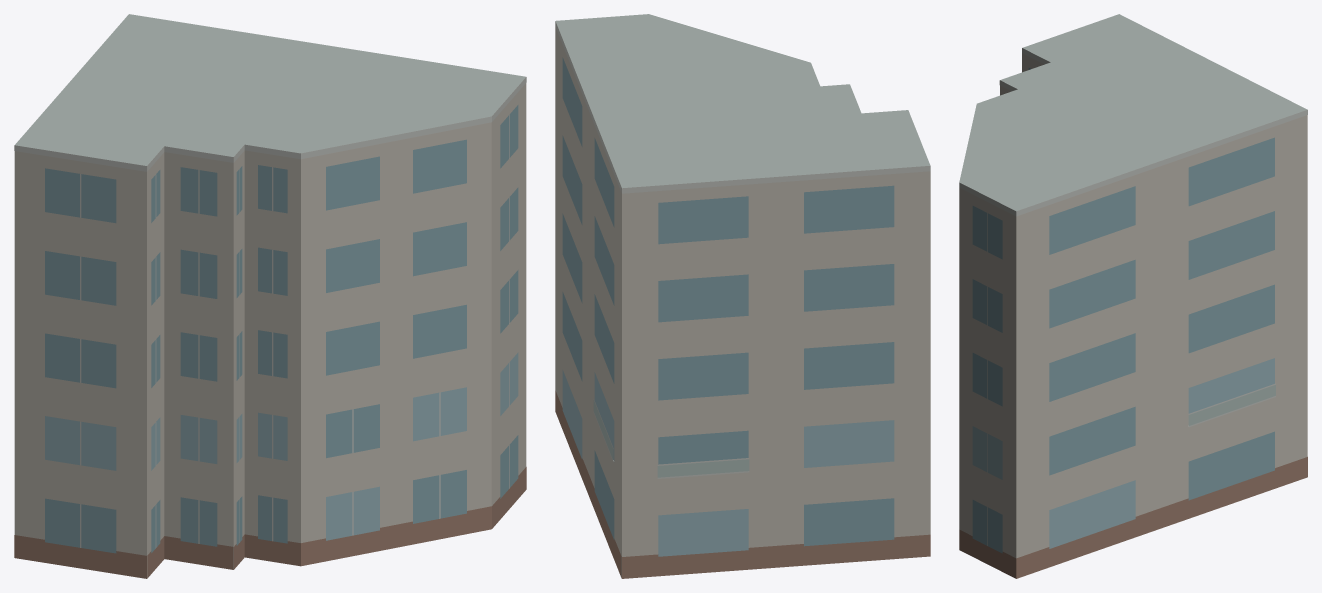
Rendered from survey-upis-32622159.glb.
3 renders of one model, left to right at view 1: azimuth 30°, elevation 25°; view 2: azimuth 150°, elevation 25°; view 3: azimuth 270°, elevation 25°, orthographic. The views are drawn at different scales.
Parts seen in each view (by area): view 1: survey-upis-32622159.tmp; view 2: survey-upis-32622159.tmp; view 3: survey-upis-32622159.tmp.
Boxes of the visible parts, x1=… form: survey-upis-32622159.tmp: x1=14, y1=14, x2=526, y2=578; survey-upis-32622159.tmp: x1=555, y1=14, x2=930, y2=578; survey-upis-32622159.tmp: x1=959, y1=14, x2=1307, y2=578.
Bounding box in the file's own units: 19.87 × 17.25 × 14.83.
